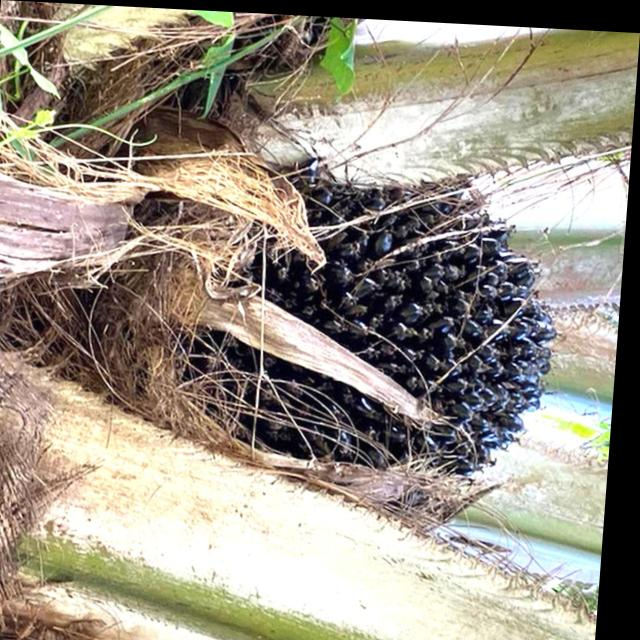unripe: (181, 173, 573, 498)
